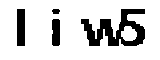5: (121, 5, 147, 52)
i: (44, 6, 65, 49)
l: (8, 5, 36, 51)
w: (78, 15, 123, 51)
